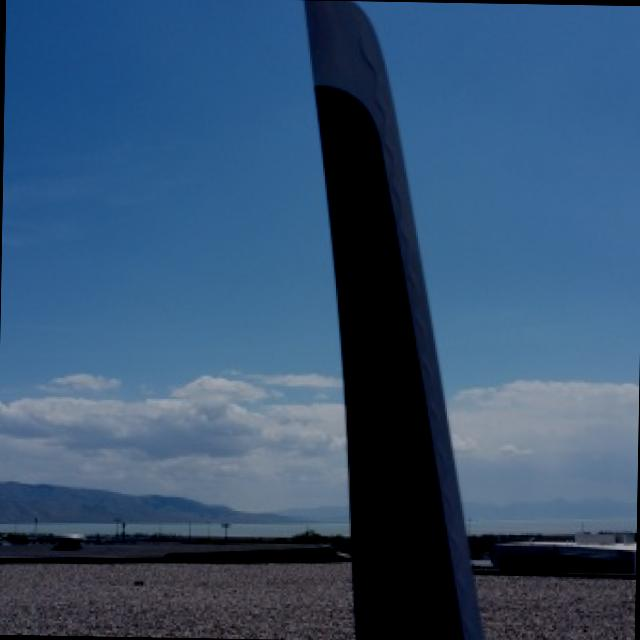healthy: (309, 0, 483, 640)
